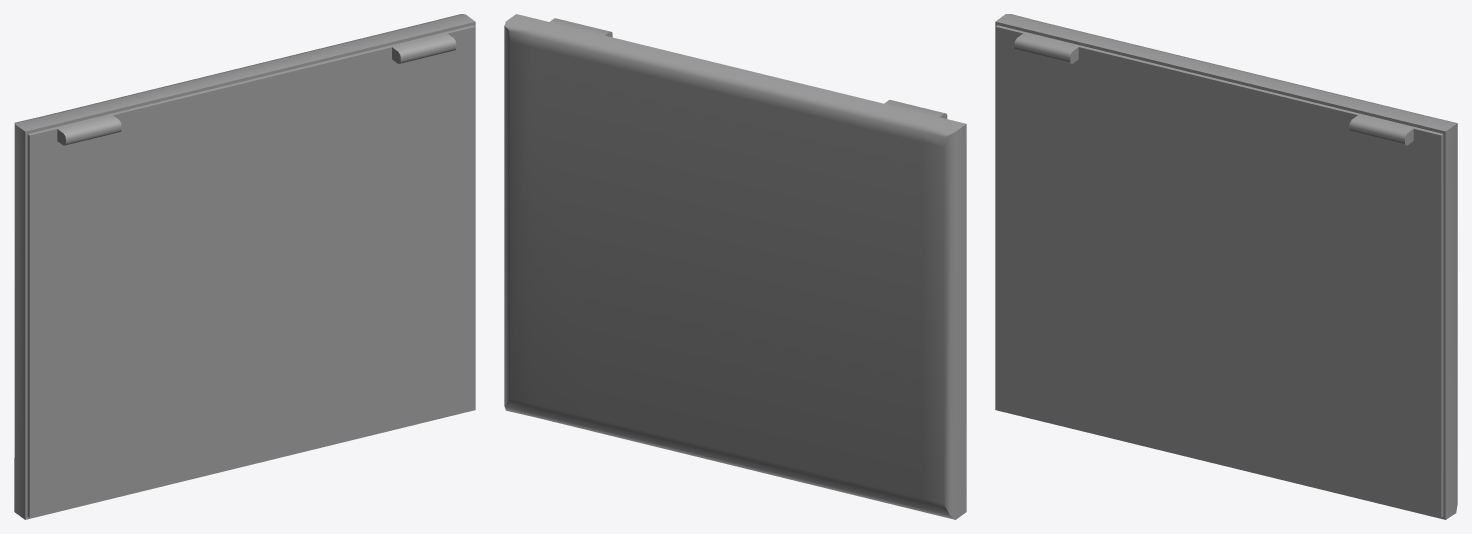
The model's file is MainMeshLaptop_7_0_GeomSubset_0.obj.
3 renders of one model, left to right at view 1: azimuth 30°, elevation 25°; view 2: azimuth 150°, elevation 25°; view 3: azimuth 330°, elevation 25°, orthographic.
Visible parts, largest first — view 1: MainMeshLaptop_7_0_GeomSubset_0; view 2: MainMeshLaptop_7_0_GeomSubset_0; view 3: MainMeshLaptop_7_0_GeomSubset_0.
Boxes of the visible parts, x1,y1,x2,y2 form: MainMeshLaptop_7_0_GeomSubset_0: (14, 14, 475, 519); MainMeshLaptop_7_0_GeomSubset_0: (504, 14, 966, 519); MainMeshLaptop_7_0_GeomSubset_0: (995, 14, 1457, 519).
Size of the model in its own units: 0.3156 by 0.2605 by 0.0305.
